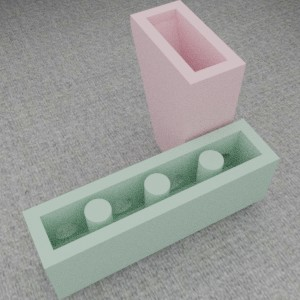lego: (22, 118, 279, 299), (130, 0, 246, 178)
